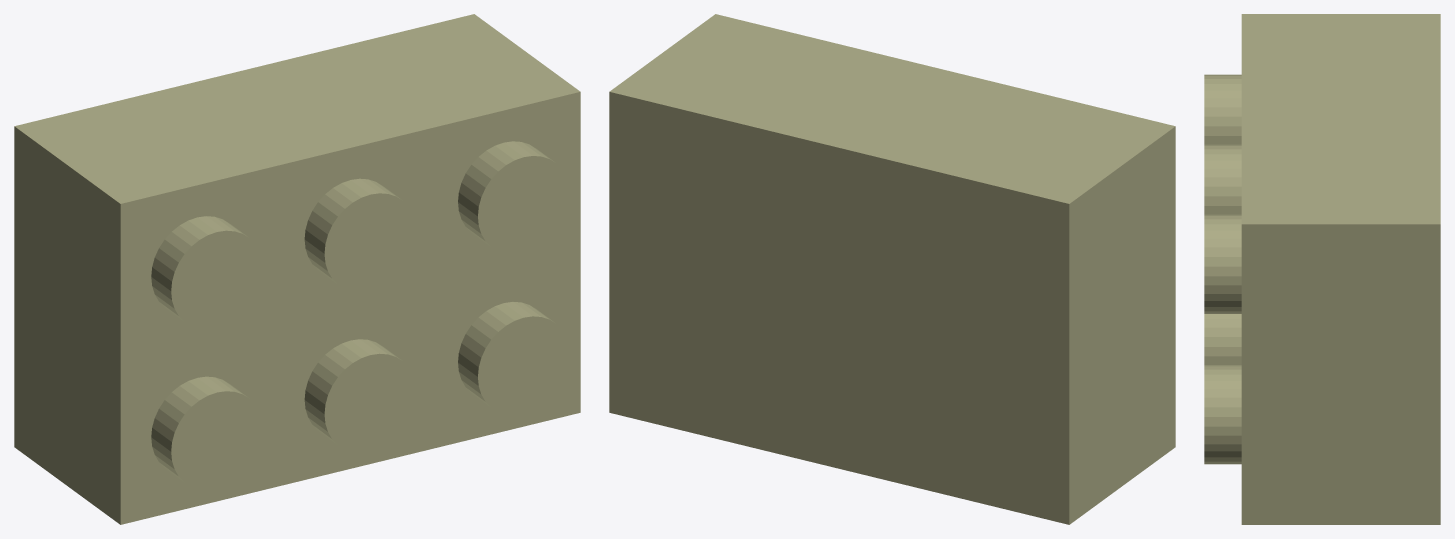
File: brick_1.glb
3 views of the same model, side by side, from view 1: azimuth 30°, elevation 25°; view 2: azimuth 150°, elevation 25°; view 3: azimuth 270°, elevation 25° (orthographic). The views are drawn at different scales.
Parts seen in each view (by area): view 1: world; view 2: world; view 3: world.
Part boxes in pixels (x1,y1,x2,y2): world: (14,14,580,524); world: (609,14,1175,524); world: (1204,14,1440,524).
Bounding box in the file's own units: 24 × 16 × 11.4.
